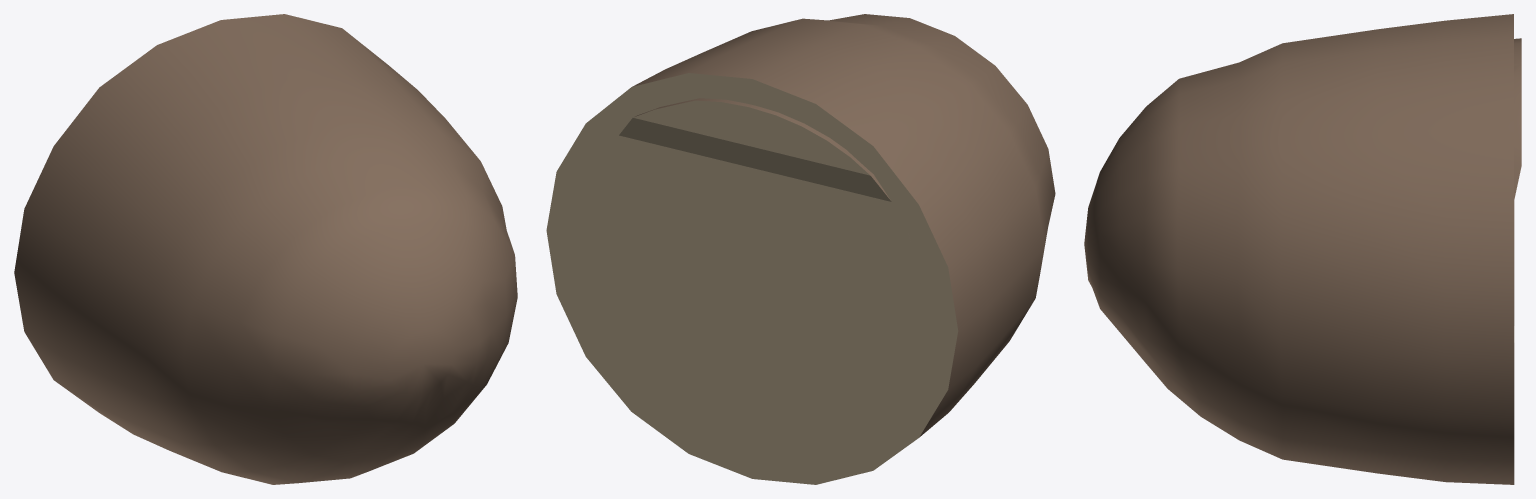
File: Potato2B.fbx
The picture shows the model from 3 angles, left to right: view 1: azimuth 30°, elevation 25°; view 2: azimuth 150°, elevation 25°; view 3: azimuth 270°, elevation 25°; orthographic projection. The views are drawn at different scales.
Visible parts, largest first — view 1: PotatoPeice1A; view 2: PotatoPeice1A, PotatoPeice2B; view 3: PotatoPeice1A, PotatoPeice2B.
Boxes of the visible parts, box(x1,y1,x2,y2) form: PotatoPeice1A: box(14, 14, 517, 484); PotatoPeice1A: box(546, 14, 1055, 484); PotatoPeice2B: box(580, 98, 924, 322); PotatoPeice1A: box(1084, 14, 1514, 484); PotatoPeice2B: box(1514, 38, 1521, 325).
Bounding box in the file's own units: 2.39 × 2.22 × 2.07.
